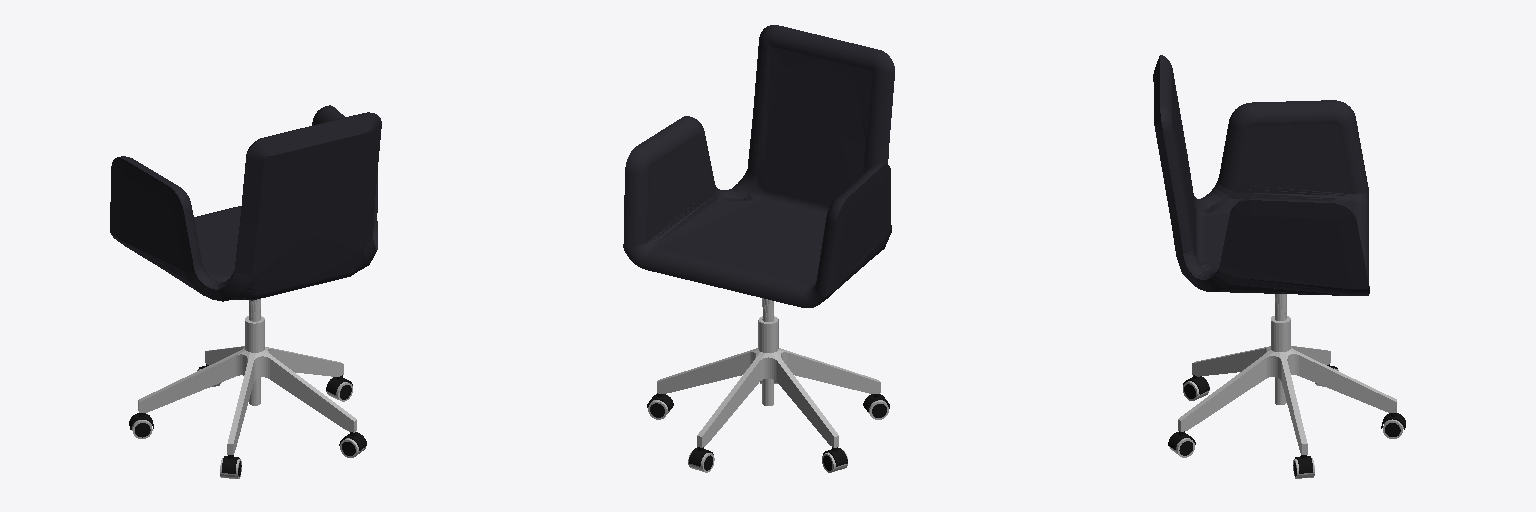
3 views of the same model, side by side, from view 1: azimuth 30°, elevation 25°; view 2: azimuth 150°, elevation 25°; view 3: azimuth 270°, elevation 25° (orthographic).
Parts seen in each view (by area): view 1: Mesh22 Group19 Patrik_kontorsstol1 Model, Mesh17 Patrik_ben4 Group3 Group1 Patrik_kontorsstol1 Model, Mesh13 Patrik_ben3 Group3 Group1 Patrik_kontorsstol1 Model, Mesh9 Patrik_ben2 Group3 Group1 Patrik_kontorsstol1 Model, Mesh21 Patrik_ben5 Group3 Group1 Patrik_kontorsstol1 Model, Mesh1 Group2 Group1 Patrik_kontorsstol1 Model; view 2: Mesh22 Group19 Patrik_kontorsstol1 Model, Mesh13 Patrik_ben3 Group3 Group1 Patrik_kontorsstol1 Model, Mesh9 Patrik_ben2 Group3 Group1 Patrik_kontorsstol1 Model, Mesh21 Patrik_ben5 Group3 Group1 Patrik_kontorsstol1 Model, Mesh5 Patrik_ben1 Group3 Group1 Patrik_kontorsstol1 Model, Mesh1 Group2 Group1 Patrik_kontorsstol1 Model; view 3: Mesh22 Group19 Patrik_kontorsstol1 Model, Mesh5 Patrik_ben1 Group3 Group1 Patrik_kontorsstol1 Model, Mesh17 Patrik_ben4 Group3 Group1 Patrik_kontorsstol1 Model, Mesh21 Patrik_ben5 Group3 Group1 Patrik_kontorsstol1 Model, Mesh1 Group2 Group1 Patrik_kontorsstol1 Model, Mesh9 Patrik_ben2 Group3 Group1 Patrik_kontorsstol1 Model.
Boxes of the visible parts, x1,y1,x2,y2 form: Mesh22 Group19 Patrik_kontorsstol1 Model: [110, 105, 381, 301]; Mesh17 Patrik_ben4 Group3 Group1 Patrik_kontorsstol1 Model: [253, 350, 356, 432]; Mesh13 Patrik_ben3 Group3 Group1 Patrik_kontorsstol1 Model: [138, 346, 245, 412]; Mesh9 Patrik_ben2 Group3 Group1 Patrik_kontorsstol1 Model: [227, 351, 255, 454]; Mesh21 Patrik_ben5 Group3 Group1 Patrik_kontorsstol1 Model: [265, 347, 343, 376]; Mesh1 Group2 Group1 Patrik_kontorsstol1 Model: [245, 299, 264, 405]; Mesh22 Group19 Patrik_kontorsstol1 Model: [623, 25, 894, 307]; Mesh13 Patrik_ben3 Group3 Group1 Patrik_kontorsstol1 Model: [759, 352, 838, 447]; Mesh9 Patrik_ben2 Group3 Group1 Patrik_kontorsstol1 Model: [777, 348, 880, 393]; Mesh21 Patrik_ben5 Group3 Group1 Patrik_kontorsstol1 Model: [657, 348, 758, 393]; Mesh5 Patrik_ben1 Group3 Group1 Patrik_kontorsstol1 Model: [697, 350, 764, 447]; Mesh1 Group2 Group1 Patrik_kontorsstol1 Model: [758, 298, 778, 405]; Mesh22 Group19 Patrik_kontorsstol1 Model: [1153, 55, 1369, 295]; Mesh5 Patrik_ben1 Group3 Group1 Patrik_kontorsstol1 Model: [1286, 349, 1396, 412]; Mesh17 Patrik_ben4 Group3 Group1 Patrik_kontorsstol1 Model: [1178, 347, 1273, 431]; Mesh21 Patrik_ben5 Group3 Group1 Patrik_kontorsstol1 Model: [1264, 352, 1307, 454]; Mesh1 Group2 Group1 Patrik_kontorsstol1 Model: [1271, 294, 1290, 404]; Mesh9 Patrik_ben2 Group3 Group1 Patrik_kontorsstol1 Model: [1192, 346, 1270, 376].
Bounding box in the file's own units: 0.5594 × 0.8715 × 0.5721.